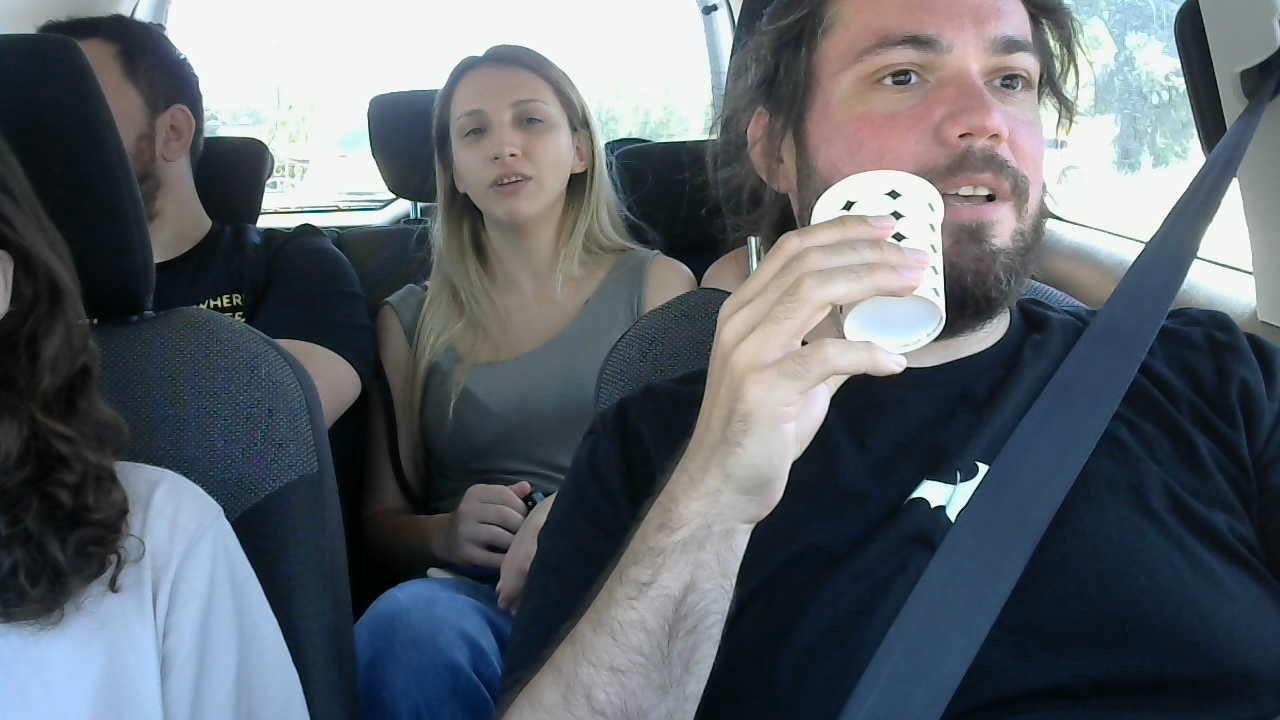Drinking: (795, 168, 952, 356)
